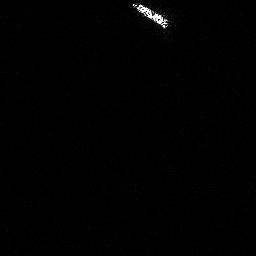ship: (129, 1, 171, 30)
